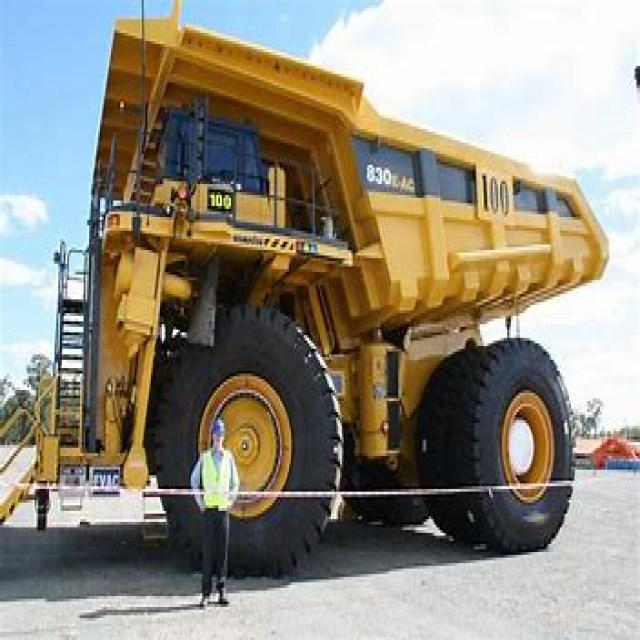dump_truck: (18, 14, 589, 574)
